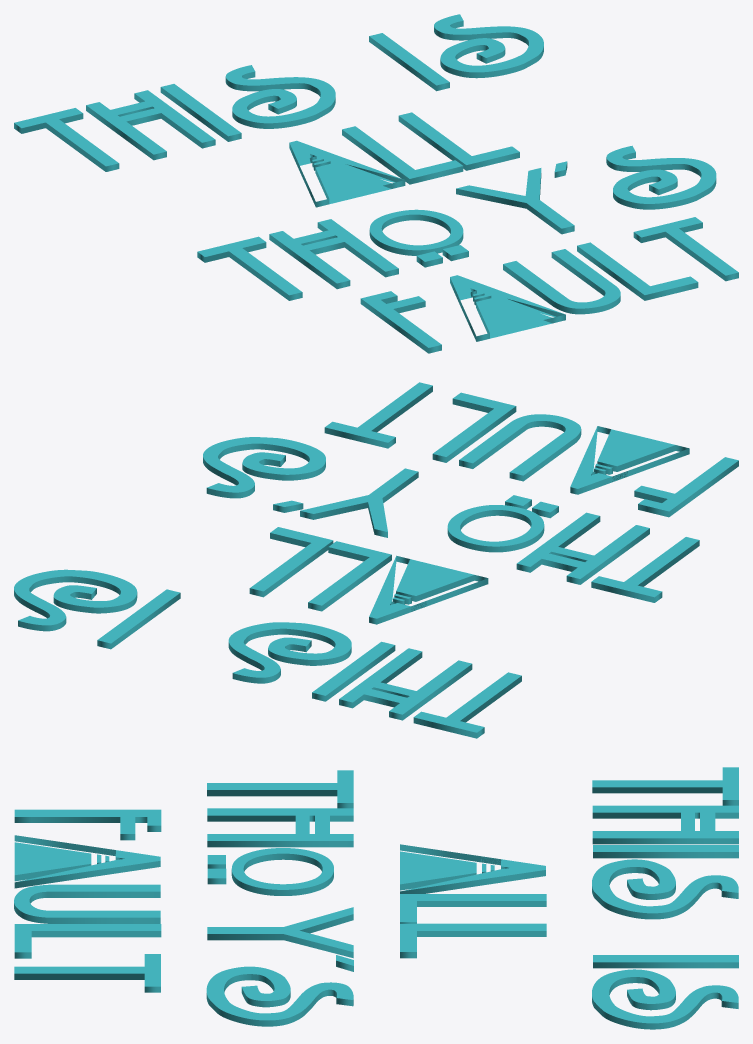
File: tiatf.fbx
3 renders of one model, top to bottom at view 1: azimuth 30°, elevation 25°; view 2: azimuth 150°, elevation 25°; view 3: azimuth 270°, elevation 25°, orthographic. The views are drawn at different scales.
Parts seen in each view (by area): view 1: Text; view 2: Text; view 3: Text.
Part boxes in pixels (bbox=[...]): Text: bbox=[14, 14, 738, 353]; Text: bbox=[14, 382, 738, 738]; Text: bbox=[14, 767, 738, 1029].
Size of the model in its own units: 11.62 by 0.1306 by 13.91.
